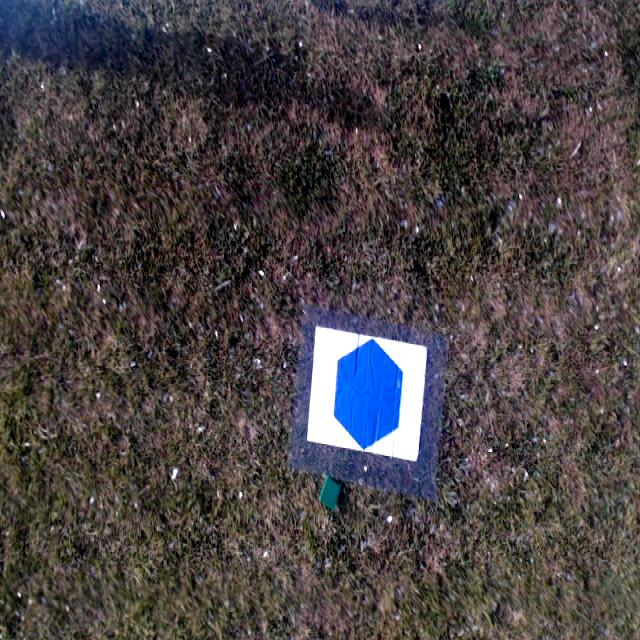blue_hexagon: (334, 338, 403, 451)
